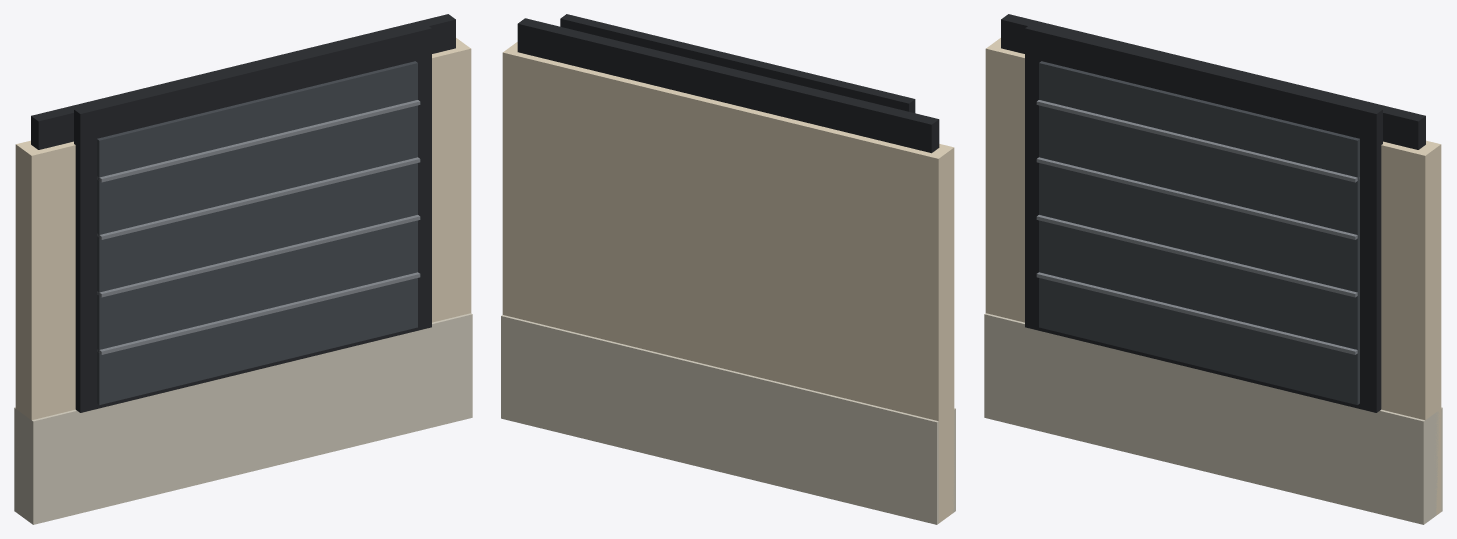
Rendered from arch.bay-roller.glb.
3 renders of one model, left to right at view 1: azimuth 30°, elevation 25°; view 2: azimuth 150°, elevation 25°; view 3: azimuth 330°, elevation 25°, orthographic.
Visible parts, largest first — view 1: arch.bay-roller; view 2: arch.bay-roller; view 3: arch.bay-roller.
Boxes of the visible parts, x1=… form: arch.bay-roller: x1=14, y1=14, x2=472, y2=524; arch.bay-roller: x1=501, y1=14, x2=955, y2=524; arch.bay-roller: x1=984, y1=14, x2=1442, y2=524.
Size of the model in its own units: 4 by 3.5 by 0.425.
